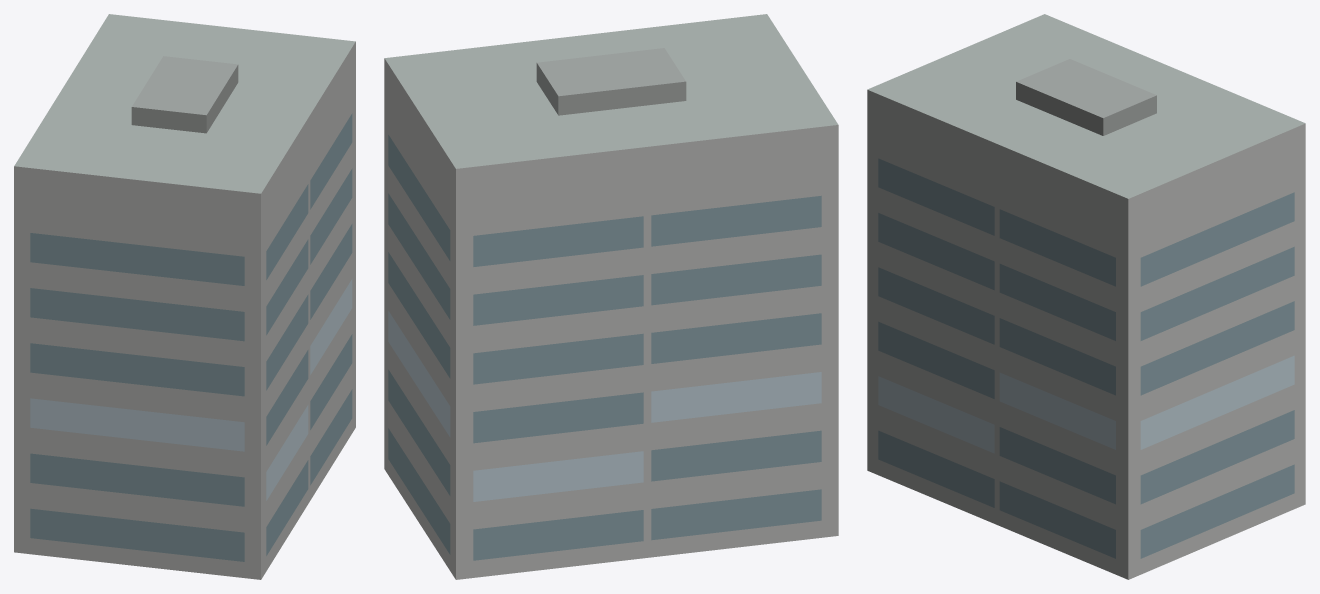
Rendered from fallback-raemian-blesstige-208.glb.
The picture shows the model from 3 angles, left to right: view 1: azimuth 30°, elevation 25°; view 2: azimuth 150°, elevation 25°; view 3: azimuth 270°, elevation 25°; orthographic projection. The views are drawn at different scales.
Parts seen in each view (by area): view 1: fallback-raemian-blesstige-208; view 2: fallback-raemian-blesstige-208; view 3: fallback-raemian-blesstige-208.
Boxes of the visible parts, x1,y1,x2,y2 form: fallback-raemian-blesstige-208: [14, 14, 355, 579]; fallback-raemian-blesstige-208: [384, 14, 838, 579]; fallback-raemian-blesstige-208: [867, 14, 1305, 579].
Size of the model in its own units: 21.87 by 22 by 21.92.
